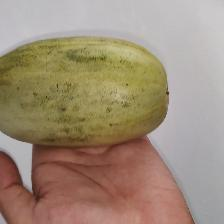gua: (15, 47, 147, 140)
